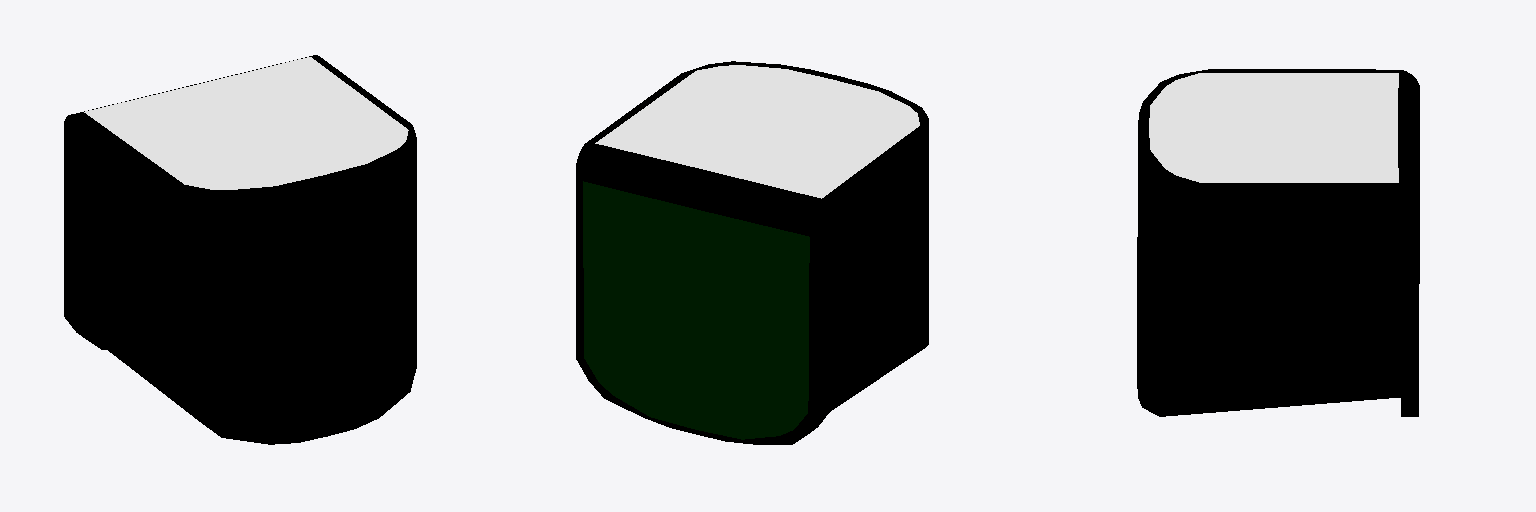
The model's file is edgeWG.obj.
3 renders of one model, left to right at view 1: azimuth 30°, elevation 25°; view 2: azimuth 150°, elevation 25°; view 3: azimuth 270°, elevation 25°, orthographic.
Visible parts, largest first — view 1: BasicEdge_Plane.006, EdgeSide1_Plane.008; view 2: EdgeSide2_Plane.009, BasicEdge_Plane.006, EdgeSide1_Plane.008; view 3: BasicEdge_Plane.006, EdgeSide1_Plane.008.
Boxes of the visible parts, x1,y1,x2,y2 form: BasicEdge_Plane.006: [64, 55, 416, 444]; EdgeSide1_Plane.008: [84, 57, 408, 189]; EdgeSide2_Plane.009: [583, 181, 809, 439]; BasicEdge_Plane.006: [576, 61, 928, 444]; EdgeSide1_Plane.008: [595, 65, 919, 198]; BasicEdge_Plane.006: [1137, 69, 1419, 416]; EdgeSide1_Plane.008: [1149, 73, 1398, 182].
Size of the model in its own units: 0.18 by 0.1802 by 0.182.